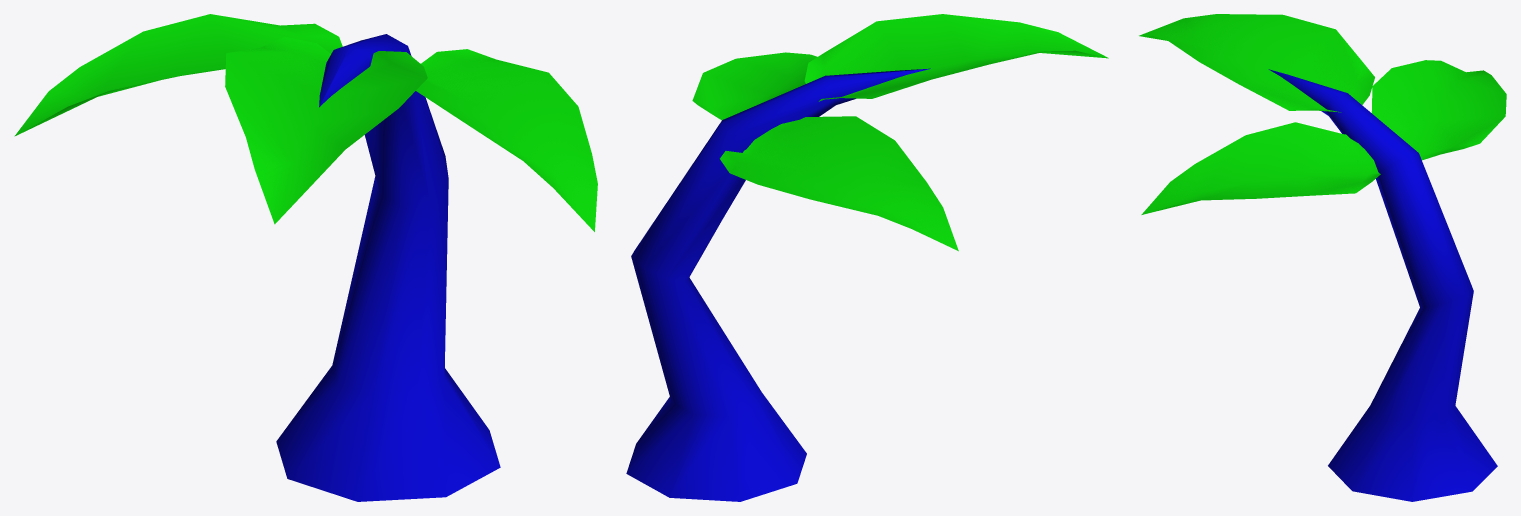
Rendered from Pepper_1.fbx.
3 views of the same model, side by side, from view 1: azimuth 30°, elevation 25°; view 2: azimuth 150°, elevation 25°; view 3: azimuth 270°, elevation 25° (orthographic). The views are drawn at different scales.
Visible parts, largest first — view 1: BSTC_Pepper_1; view 2: BSTC_Pepper_1; view 3: BSTC_Pepper_1.
Boxes of the visible parts, left/top/right/bottom form: BSTC_Pepper_1: left=14, top=14, right=597, bottom=501; BSTC_Pepper_1: left=626, top=14, right=1108, bottom=501; BSTC_Pepper_1: left=1139, top=14, right=1506, bottom=501.
Size of the model in its own units: 19.23 by 20.7 by 19.13.
